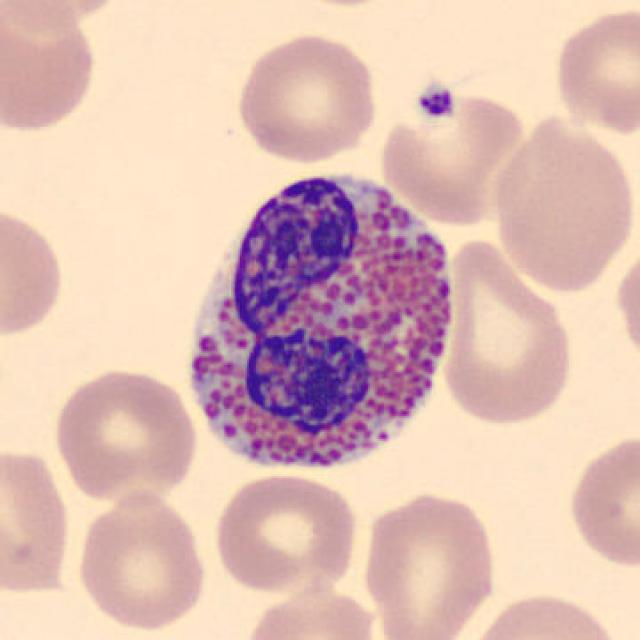Eosinophil: (174, 147, 473, 496)
Platelets: (412, 80, 458, 124)
RBC: (487, 108, 638, 294), (437, 233, 578, 430), (375, 79, 533, 226), (357, 486, 501, 640), (50, 363, 201, 506), (231, 28, 381, 166), (73, 488, 210, 635), (210, 469, 361, 596), (0, 1, 101, 137), (550, 3, 638, 138), (0, 442, 75, 600), (563, 428, 640, 572), (0, 201, 69, 342), (460, 587, 628, 640), (238, 582, 382, 640), (2, 0, 130, 32), (611, 238, 640, 374), (285, 0, 407, 11)
